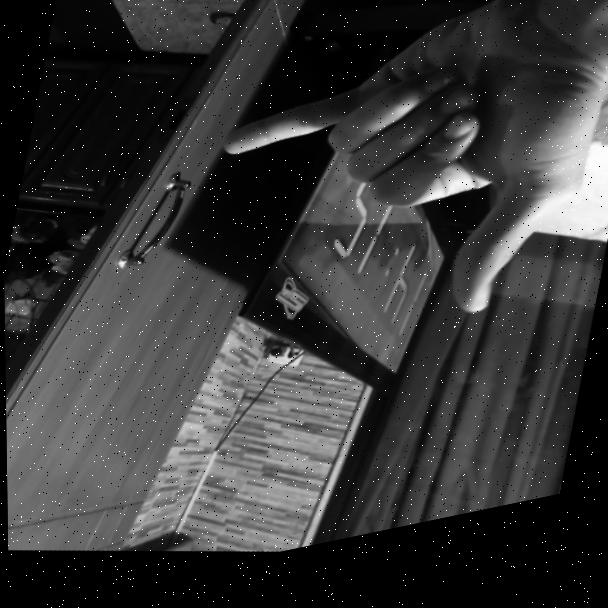five: (179, 0, 602, 398)
